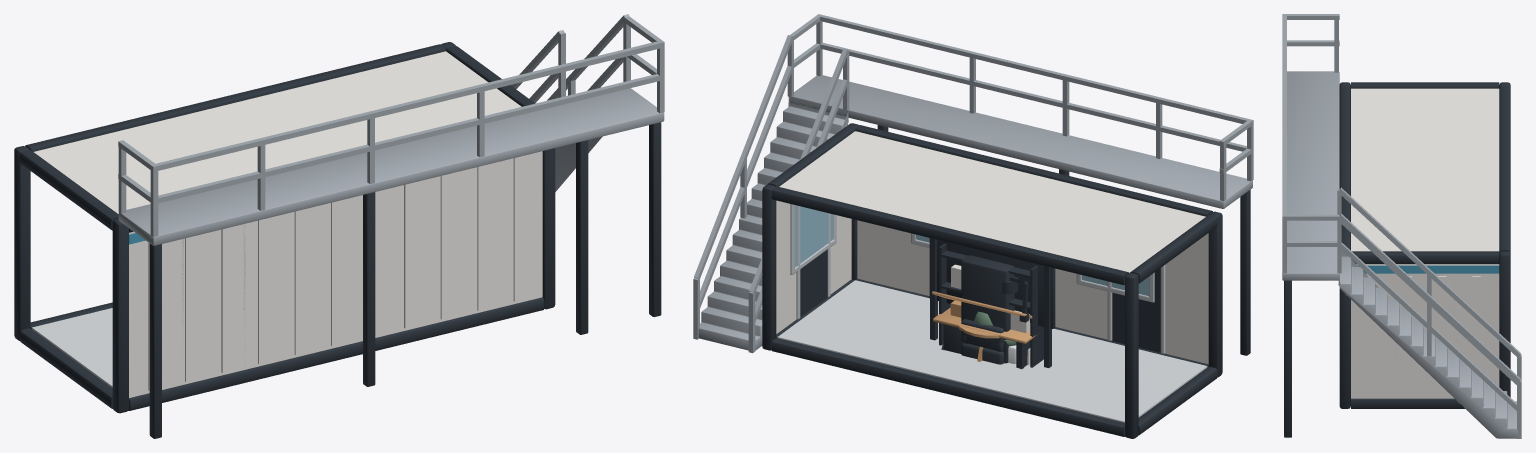
File: ENV_CONTAINER_KIT_A_v001.glb
3 views of the same model, side by side, from view 1: azimuth 30°, elevation 25°; view 2: azimuth 150°, elevation 25°; view 3: azimuth 270°, elevation 25° (orthographic). The views are drawn at different scales.
Parts seen in each view (by area): view 1: ENV_CONTAINER_KIT_A_WALKWAY, ENV_CONTAINER_KIT_A_WALL_LONG, ENV_CONTAINER_KIT_A_ROOF, ENV_CONTAINER_KIT_A_FRAME, ENV_CONTAINER_KIT_A_WALL_LONG_WINDOW, ENV_CONTAINER_KIT_A_RIBS_LONG, ENV_CONTAINER_KIT_A_WALL_LONG_DOOR, ENV_CONTAINER_KIT_A_WALL_LONG_CUT, ENV_CONTAINER_KIT_A_STAIR, ENV_CONTAINER_KIT_A_FLOOR, ENV_CONTAINER_KIT_A_RIBS_LONG_CUT; view 2: ENV_CONTAINER_KIT_A_WALKWAY, ENV_CONTAINER_KIT_A_ROOF, ENV_CONTAINER_KIT_A_FRAME, ENV_CONTAINER_KIT_A_FLOOR, ENV_CONTAINER_KIT_A_STAIR, ENV_CONTAINER_KIT_A_WALL_LONG, ENV_CONTAINER_KIT_A_WALL_LONG_CUT, ENV_CONTAINER_KIT_A_WALL_END_DOOR, ENV_CONTAINER_KIT_A_WALL_END_WINDOW, ENV_CONTAINER_KIT_A_PLANNING_BOARD, ENV_CONTAINER_KIT_A_WALL_LONG_DOOR, ENV_CONTAINER_KIT_A_MEASURE_CABINET (+7 smaller); view 3: ENV_CONTAINER_KIT_A_ROOF, ENV_CONTAINER_KIT_A_WALKWAY, ENV_CONTAINER_KIT_A_STAIR, ENV_CONTAINER_KIT_A_FRAME, ENV_CONTAINER_KIT_A_WALL_END, ENV_CONTAINER_KIT_A_WALL_END_DOOR, ENV_CONTAINER_KIT_A_WALL_END_WINDOW, ENV_CONTAINER_KIT_A_RIBS_END.
Part boxes in pixels (box(x1,y1,x2,y2)): ENV_CONTAINER_KIT_A_WALKWAY: box(118, 17, 664, 438); ENV_CONTAINER_KIT_A_WALL_LONG: box(129, 151, 542, 397); ENV_CONTAINER_KIT_A_ROOF: box(34, 51, 521, 213); ENV_CONTAINER_KIT_A_FRAME: box(14, 42, 555, 413); ENV_CONTAINER_KIT_A_WALL_LONG_WINDOW: box(129, 152, 542, 396); ENV_CONTAINER_KIT_A_RIBS_LONG: box(148, 155, 523, 390); ENV_CONTAINER_KIT_A_WALL_LONG_DOOR: box(129, 152, 542, 396); ENV_CONTAINER_KIT_A_WALL_LONG_CUT: box(129, 241, 542, 397); ENV_CONTAINER_KIT_A_STAIR: box(510, 14, 630, 191); ENV_CONTAINER_KIT_A_FLOOR: box(32, 308, 112, 387); ENV_CONTAINER_KIT_A_RIBS_LONG_CUT: box(148, 249, 523, 387); ENV_CONTAINER_KIT_A_WALKWAY: box(789, 14, 1253, 355); ENV_CONTAINER_KIT_A_ROOF: box(779, 131, 1205, 272); ENV_CONTAINER_KIT_A_FRAME: box(762, 123, 1222, 438); ENV_CONTAINER_KIT_A_FLOOR: box(777, 280, 1207, 422); ENV_CONTAINER_KIT_A_STAIR: box(693, 35, 849, 353); ENV_CONTAINER_KIT_A_WALL_LONG: box(857, 220, 1208, 364); ENV_CONTAINER_KIT_A_WALL_LONG_CUT: box(857, 230, 1208, 356); ENV_CONTAINER_KIT_A_WALL_END_DOOR: box(776, 201, 851, 333); ENV_CONTAINER_KIT_A_WALL_END_WINDOW: box(776, 201, 851, 330); ENV_CONTAINER_KIT_A_PLANNING_BOARD: box(929, 238, 1055, 367); ENV_CONTAINER_KIT_A_WALL_LONG_DOOR: box(857, 221, 1208, 362); ENV_CONTAINER_KIT_A_MEASURE_CABINET: box(961, 255, 1014, 363); ENV_CONTAINER_KIT_A_ROOF: box(1351, 88, 1499, 251); ENV_CONTAINER_KIT_A_WALKWAY: box(1282, 14, 1339, 437); ENV_CONTAINER_KIT_A_STAIR: box(1337, 187, 1521, 438); ENV_CONTAINER_KIT_A_FRAME: box(1339, 82, 1510, 408); ENV_CONTAINER_KIT_A_WALL_END: box(1351, 264, 1499, 398); ENV_CONTAINER_KIT_A_WALL_END_DOOR: box(1351, 264, 1499, 398); ENV_CONTAINER_KIT_A_WALL_END_WINDOW: box(1351, 264, 1499, 398); ENV_CONTAINER_KIT_A_RIBS_END: box(1369, 276, 1480, 396).
Size of the model in its own units: 8.4 by 4.34 by 4.19.
